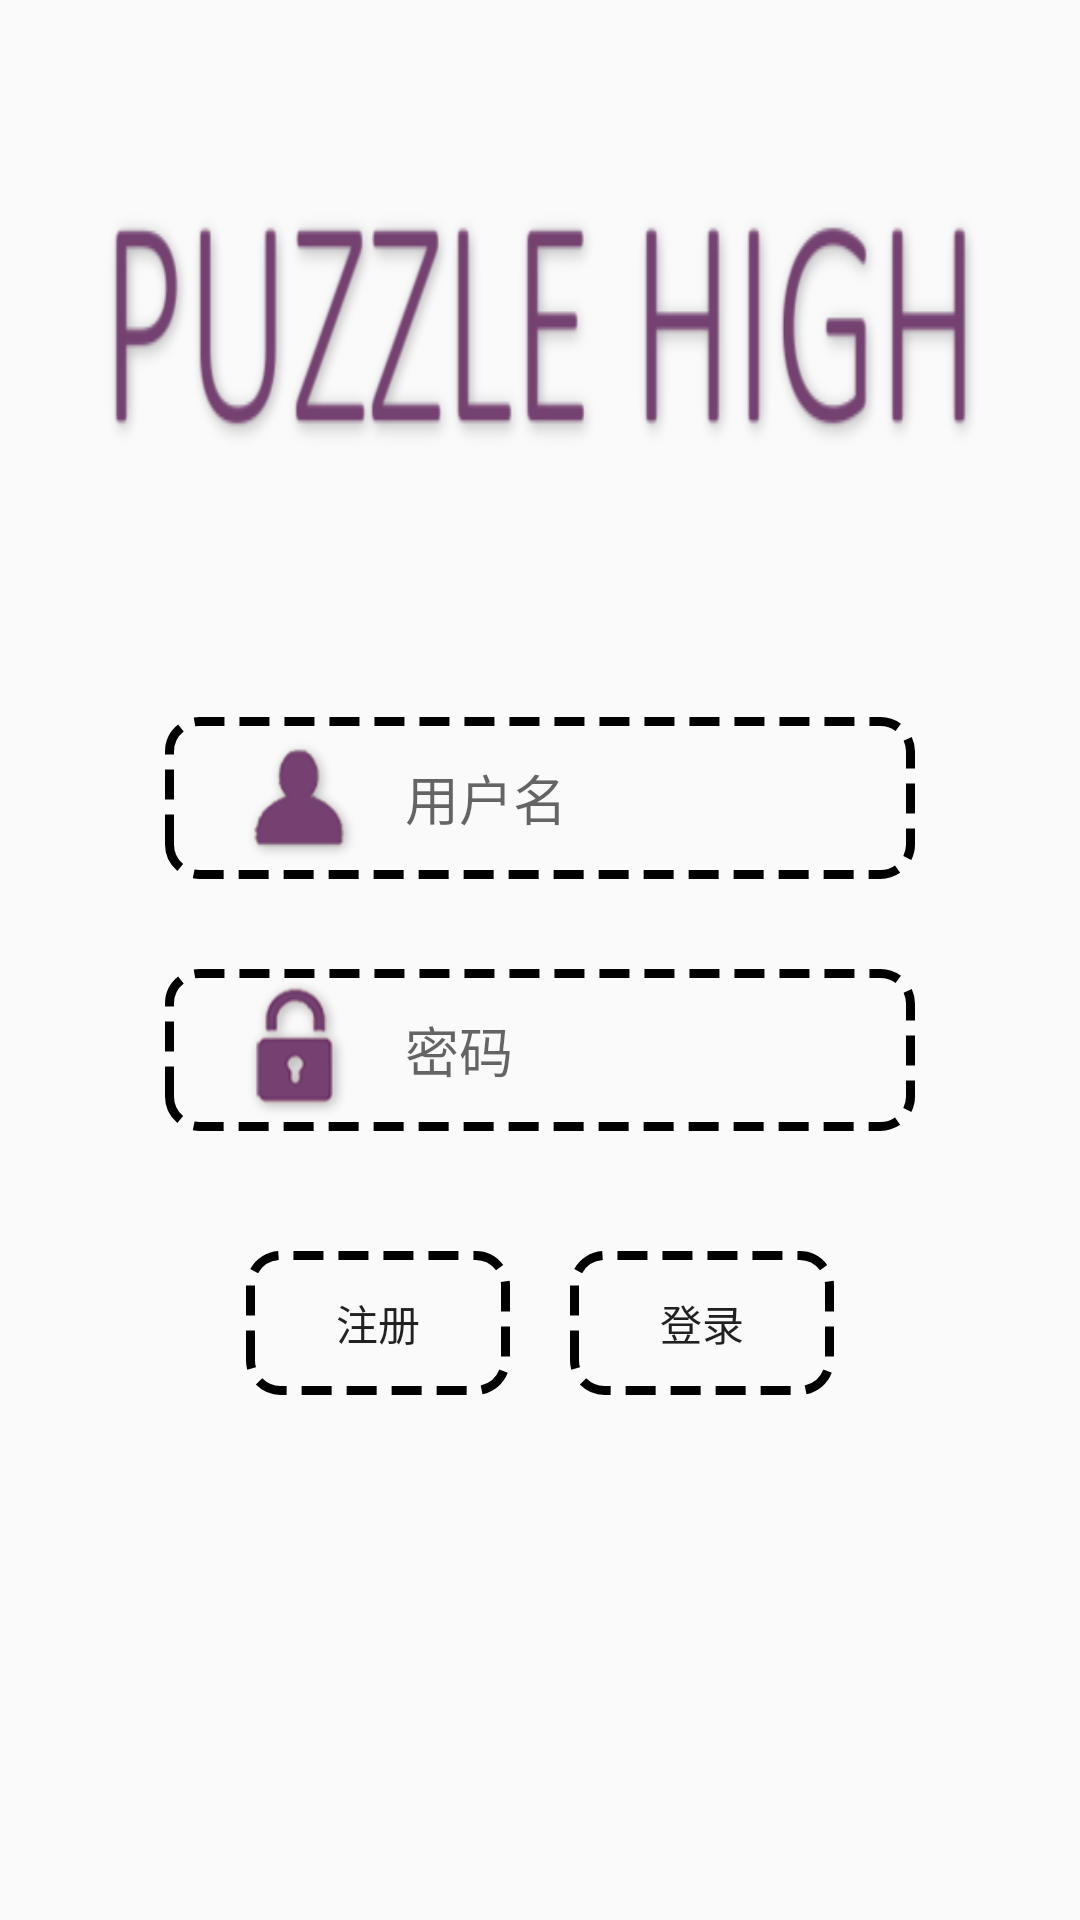

Screen size 1080×1920. Icon name, then its box in pixels as {"left": x1, "top": y1, "right": x2, "bottom": y2}:
password: {"left": 256, "top": 988, "right": 338, "bottom": 1107}
username: {"left": 254, "top": 749, "right": 347, "bottom": 850}
